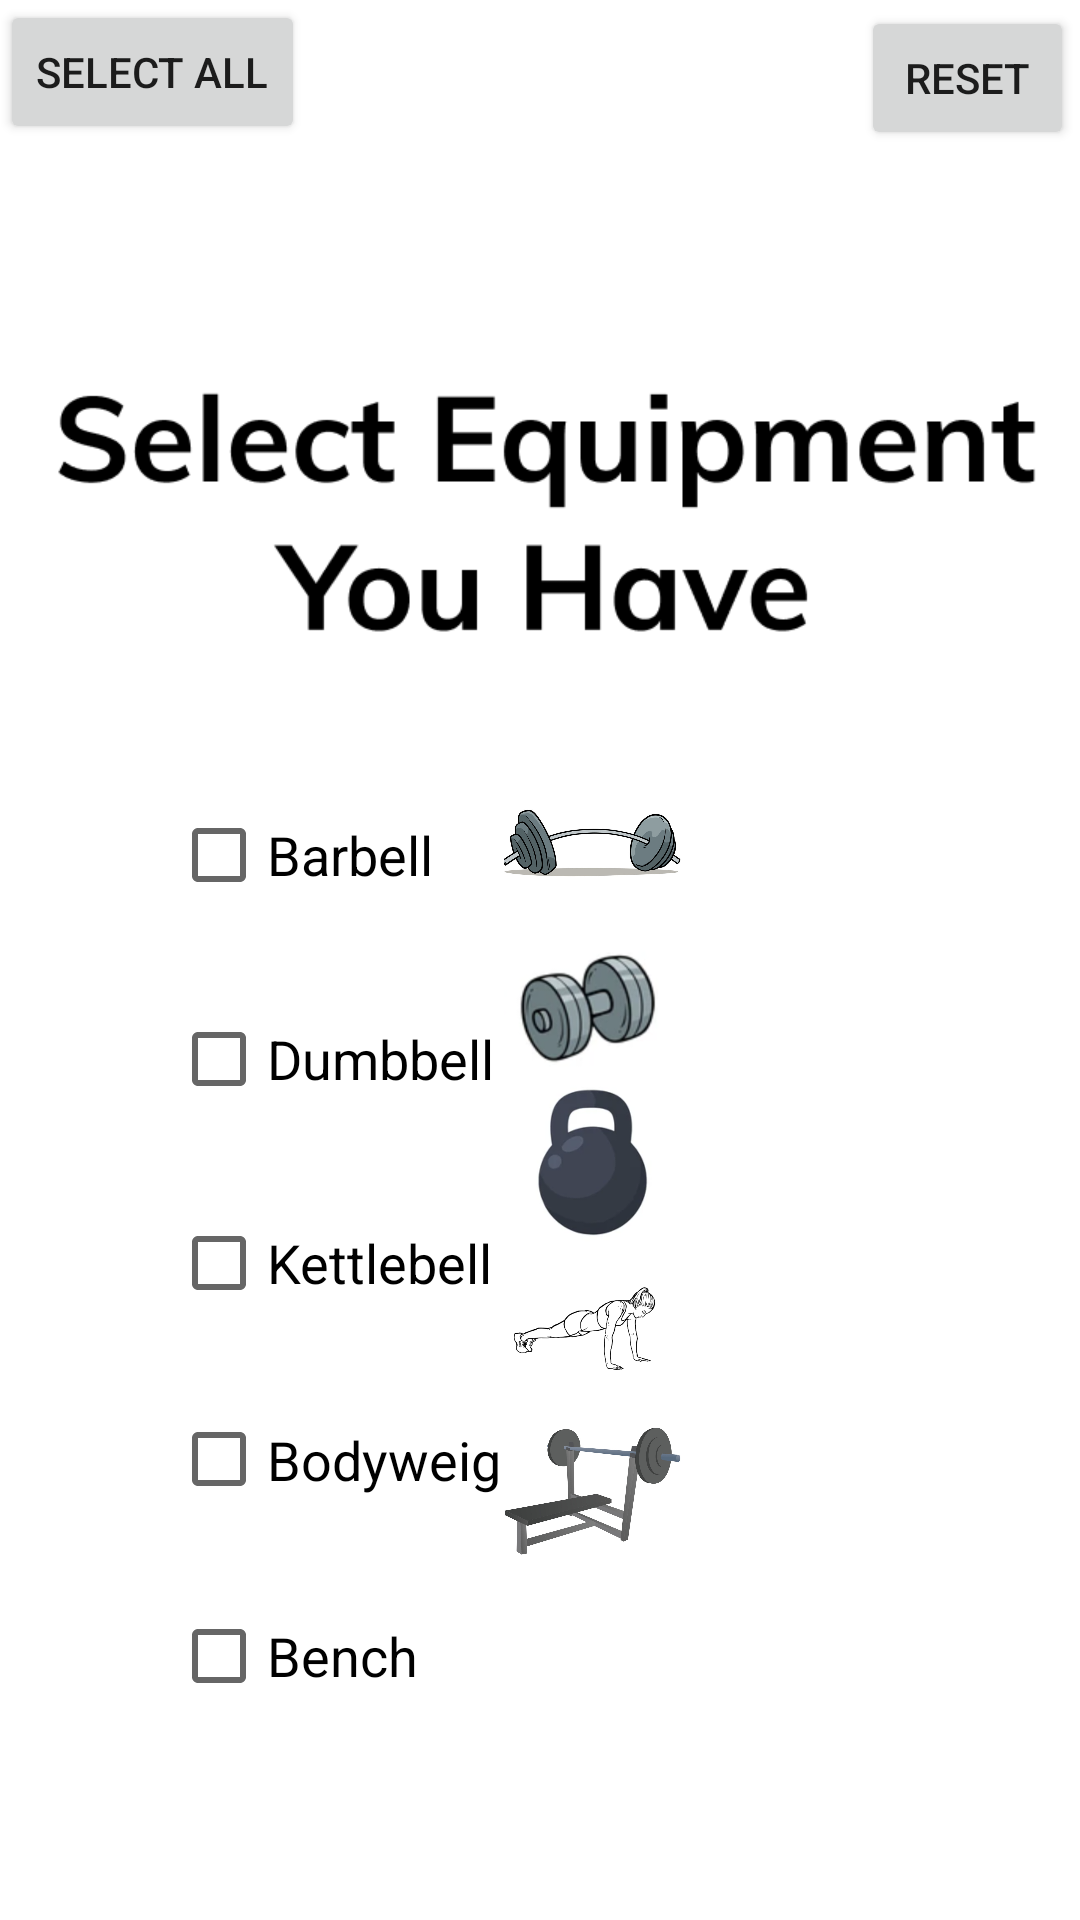

Screen size 1080x1920. Icon name, then its box in pixels as (x1, y1, x2, y2):
dumbell: (520, 955, 655, 1062)
